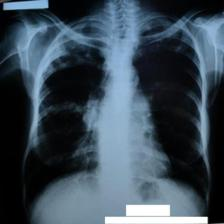tuberculosis: (21, 10, 207, 224)
